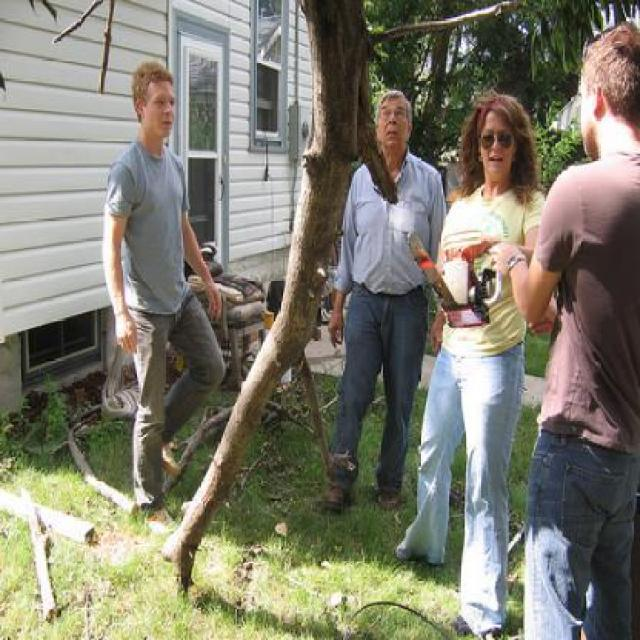Chainsaw: (405, 234, 497, 329)
